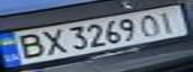2: (84, 20, 109, 48)
3: (63, 24, 90, 52)
6: (103, 17, 124, 45)
9: (118, 16, 142, 43)
B: (9, 30, 48, 61)
I: (151, 8, 184, 34)
O: (136, 11, 166, 37)
X: (36, 27, 69, 56)
